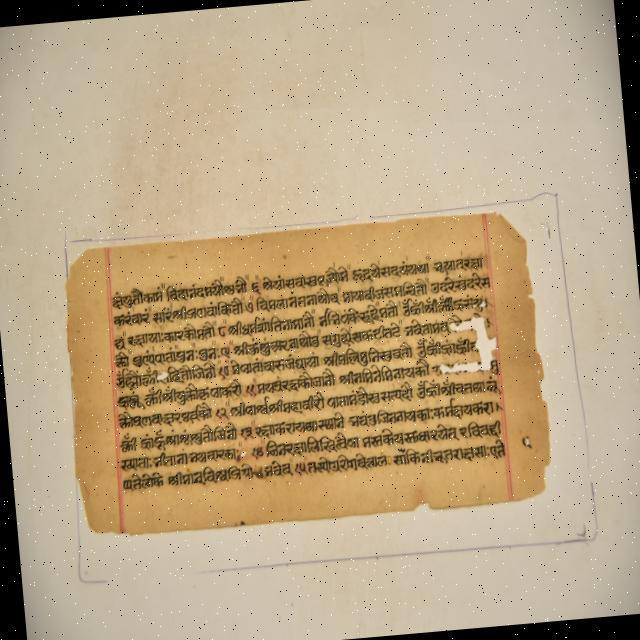text_paragraph: (71, 218, 546, 527)
